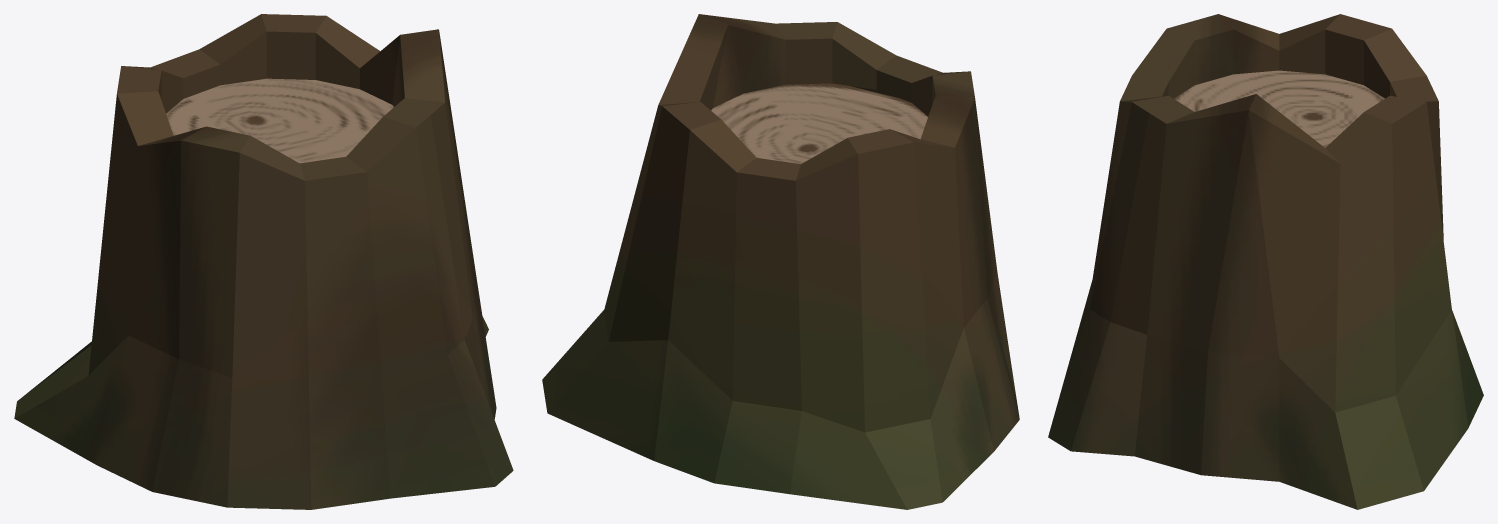
Rendered from Stump_1.fbx.
The picture shows the model from 3 angles, left to right: view 1: azimuth 30°, elevation 25°; view 2: azimuth 150°, elevation 25°; view 3: azimuth 270°, elevation 25°; orthographic projection. The views are drawn at different scales.
Parts seen in each view (by area): view 1: Stump 1; view 2: Stump 1; view 3: Stump 1.
Part boxes in pixels (x1,y1,x2,y2): Stump 1: (14, 14, 513, 509); Stump 1: (542, 14, 1019, 509); Stump 1: (1048, 14, 1483, 509).
Bounding box in the file's own units: 559 × 439 × 495.
